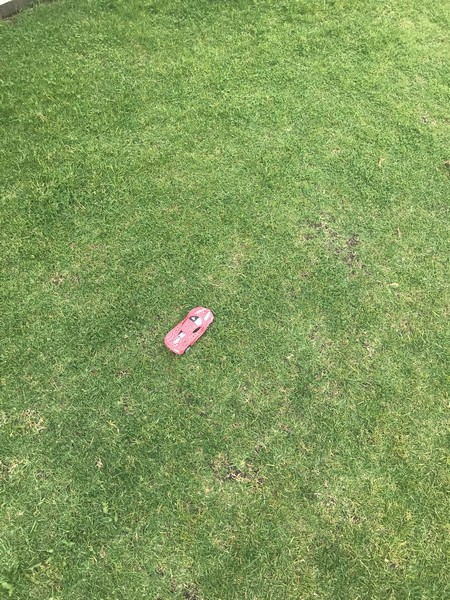RC: (162, 306, 215, 355)
